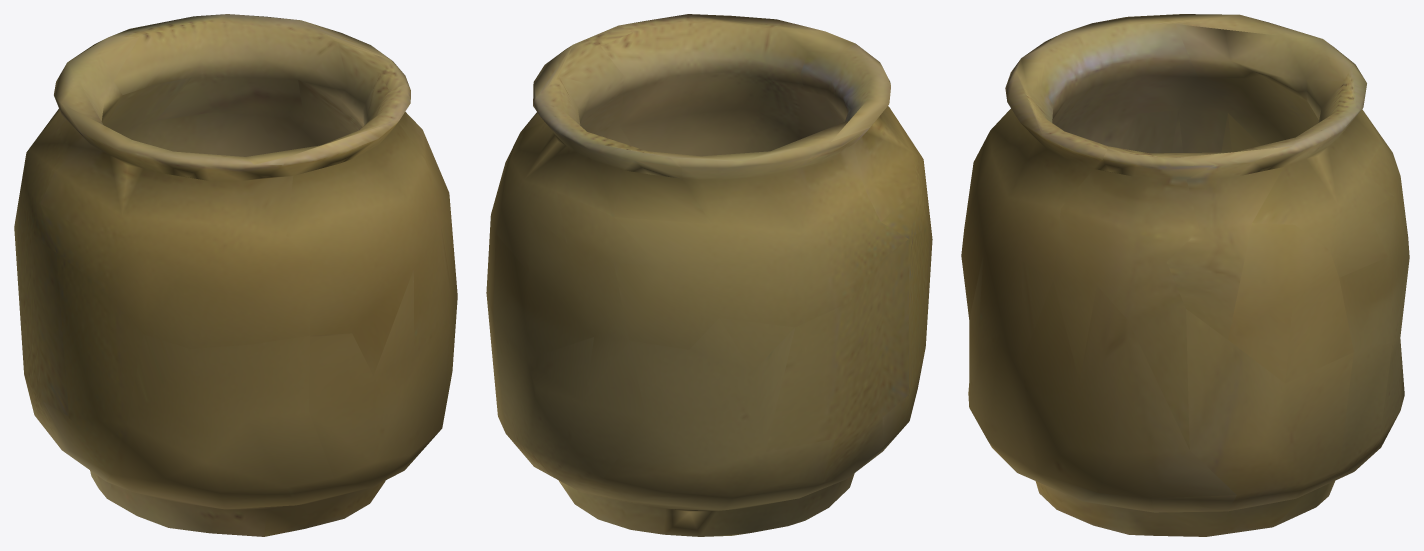
File: MaterialPlace_05.glb
3 renders of one model, left to right at view 1: azimuth 30°, elevation 25°; view 2: azimuth 150°, elevation 25°; view 3: azimuth 270°, elevation 25°, orthographic.
Parts seen in each view (by area): view 1: Meshy_AI_Row_of_Earthy_Ceramic_0509115641_texture.004; view 2: Meshy_AI_Row_of_Earthy_Ceramic_0509115641_texture.004; view 3: Meshy_AI_Row_of_Earthy_Ceramic_0509115641_texture.004.
Boxes of the visible parts, left/top/right/bottom form: Meshy_AI_Row_of_Earthy_Ceramic_0509115641_texture.004: left=14, top=14, right=457, bottom=536; Meshy_AI_Row_of_Earthy_Ceramic_0509115641_texture.004: left=486, top=14, right=932, bottom=536; Meshy_AI_Row_of_Earthy_Ceramic_0509115641_texture.004: left=961, top=14, right=1409, bottom=536.
Size of the model in its own units: 0.2647 by 0.2604 by 0.2711.
Materials: 1 (1 with a texture image).
